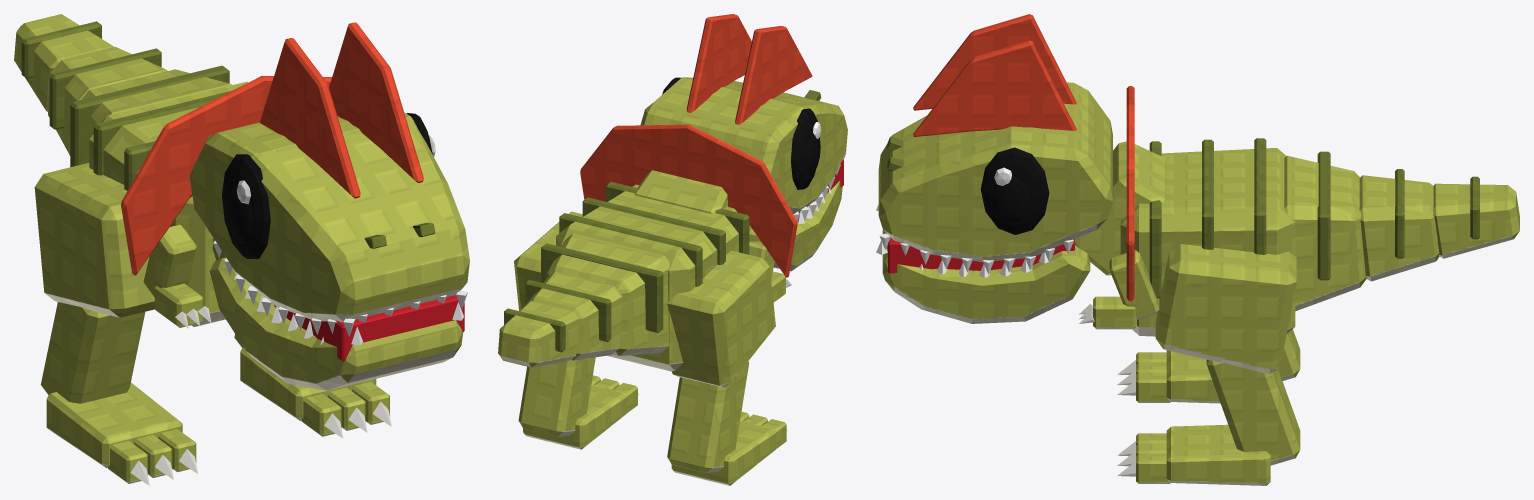
Rendered from bebe_07_Dilophosaurus.glb.
The picture shows the model from 3 angles, left to right: view 1: azimuth 30°, elevation 25°; view 2: azimuth 150°, elevation 25°; view 3: azimuth 270°, elevation 25°; orthographic projection. The views are drawn at different scales.
Parts seen in each view (by area): view 1: bebe_07_Dilophosaurus; view 2: bebe_07_Dilophosaurus; view 3: bebe_07_Dilophosaurus.
Part boxes in pixels (box(x1,y1,x2,y2)): bebe_07_Dilophosaurus: box(14, 14, 469, 485); bebe_07_Dilophosaurus: box(498, 14, 847, 485); bebe_07_Dilophosaurus: box(876, 14, 1519, 485).
Size of the model in its own units: 1.57 by 2.5 by 3.63.
1 material, 1 textured.
